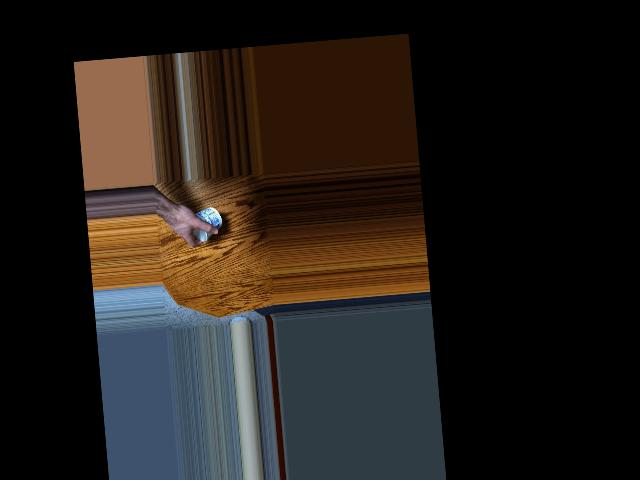cotage: (191, 202, 224, 244)
